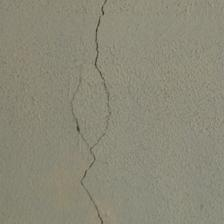Crack: (30, 17, 86, 91), (0, 42, 57, 110), (87, 21, 134, 50)
